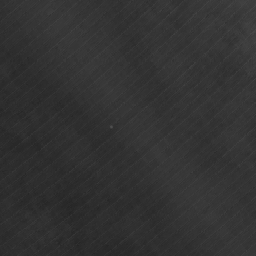Target: (107, 123, 113, 130)
